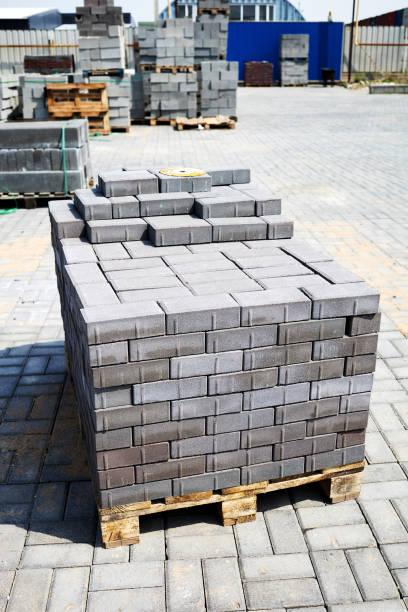Bricks: (88, 314, 167, 346), (96, 400, 172, 433), (94, 358, 171, 390), (129, 332, 207, 363), (100, 479, 173, 510), (171, 391, 243, 421), (134, 376, 208, 405), (133, 418, 206, 447), (169, 351, 244, 379), (167, 308, 241, 336), (243, 382, 311, 412), (136, 455, 206, 484), (207, 325, 279, 353), (244, 342, 313, 371), (208, 367, 279, 395), (96, 443, 169, 470), (241, 301, 312, 328), (82, 301, 165, 324), (280, 316, 348, 344), (173, 468, 241, 496), (170, 432, 240, 459), (159, 292, 241, 315), (279, 357, 346, 385), (164, 252, 240, 276), (313, 333, 378, 361), (241, 421, 306, 449), (226, 246, 301, 270), (275, 397, 339, 425), (207, 446, 273, 473), (274, 434, 337, 462), (207, 409, 274, 435), (310, 374, 373, 401), (241, 458, 304, 485), (306, 445, 364, 474), (312, 294, 380, 318), (307, 411, 369, 437), (233, 288, 311, 308), (118, 284, 195, 304), (302, 281, 381, 300), (306, 260, 366, 284), (179, 267, 253, 286), (75, 281, 122, 309), (188, 278, 265, 295), (258, 273, 330, 291), (107, 266, 176, 284), (114, 275, 186, 292), (245, 263, 315, 280), (91, 224, 149, 244), (101, 256, 169, 273), (283, 241, 333, 264), (156, 226, 213, 246), (66, 261, 108, 288), (212, 224, 267, 243), (140, 198, 195, 217), (105, 179, 159, 198), (89, 342, 130, 367), (97, 465, 136, 491), (96, 427, 133, 452), (203, 201, 256, 218), (94, 388, 132, 410), (161, 177, 212, 193), (351, 314, 382, 338), (210, 169, 252, 185), (340, 393, 371, 414), (346, 355, 376, 376), (337, 431, 365, 449), (112, 202, 141, 219), (269, 222, 294, 240), (85, 204, 113, 220), (256, 200, 281, 216)
